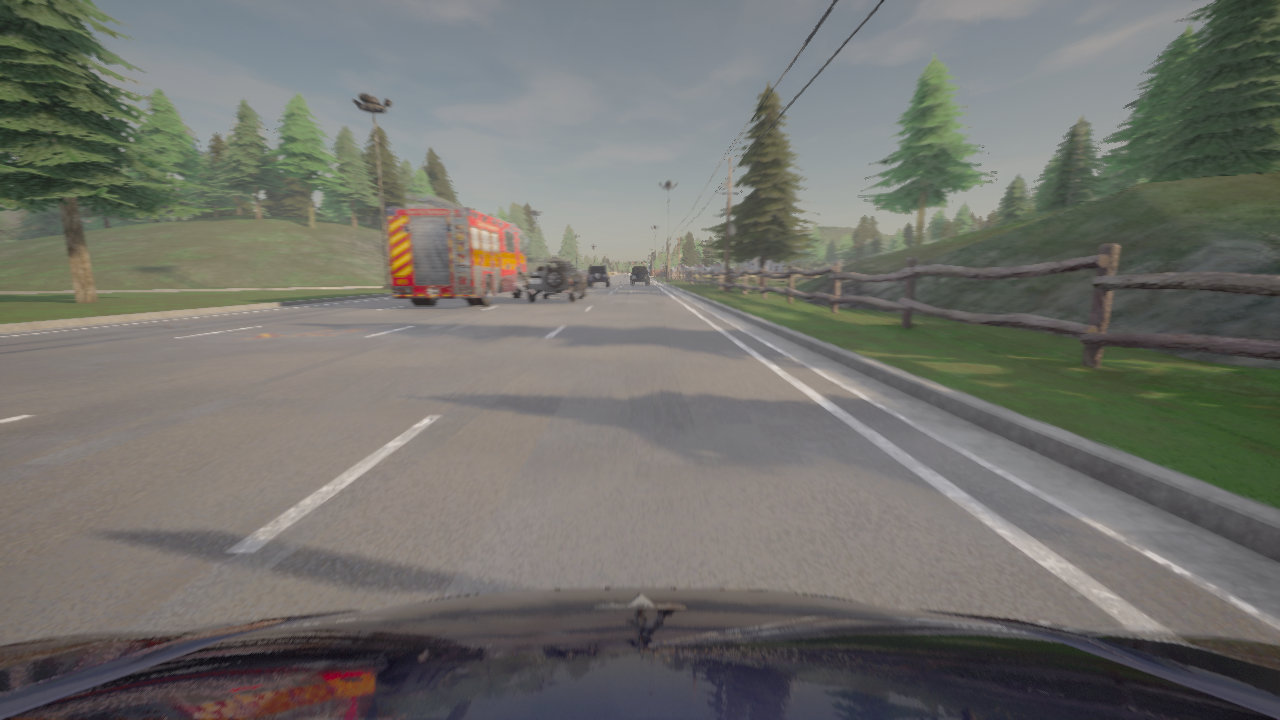cyclist: (0, 588, 1279, 719), (387, 194, 529, 305), (524, 258, 584, 303), (586, 265, 610, 287), (630, 267, 648, 284), (580, 272, 587, 280), (579, 273, 580, 274)
